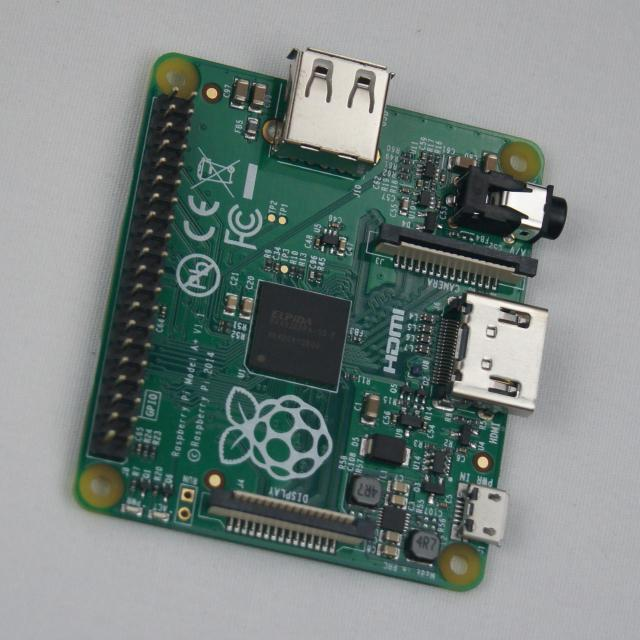Raspberry-Pi-1-A-: (76, 50, 567, 590)
